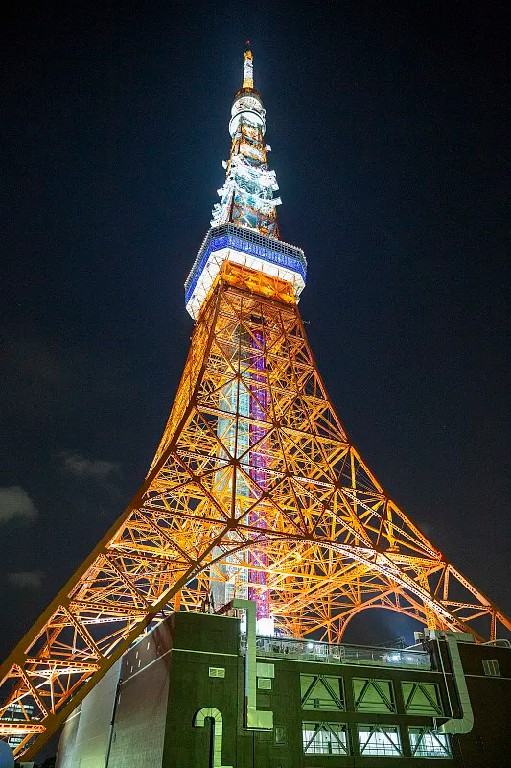Tokyo: (1, 36, 511, 743)
